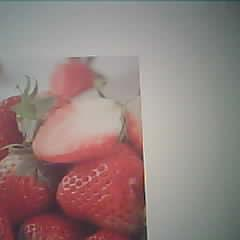straw-ripe: (56, 154, 146, 230)
